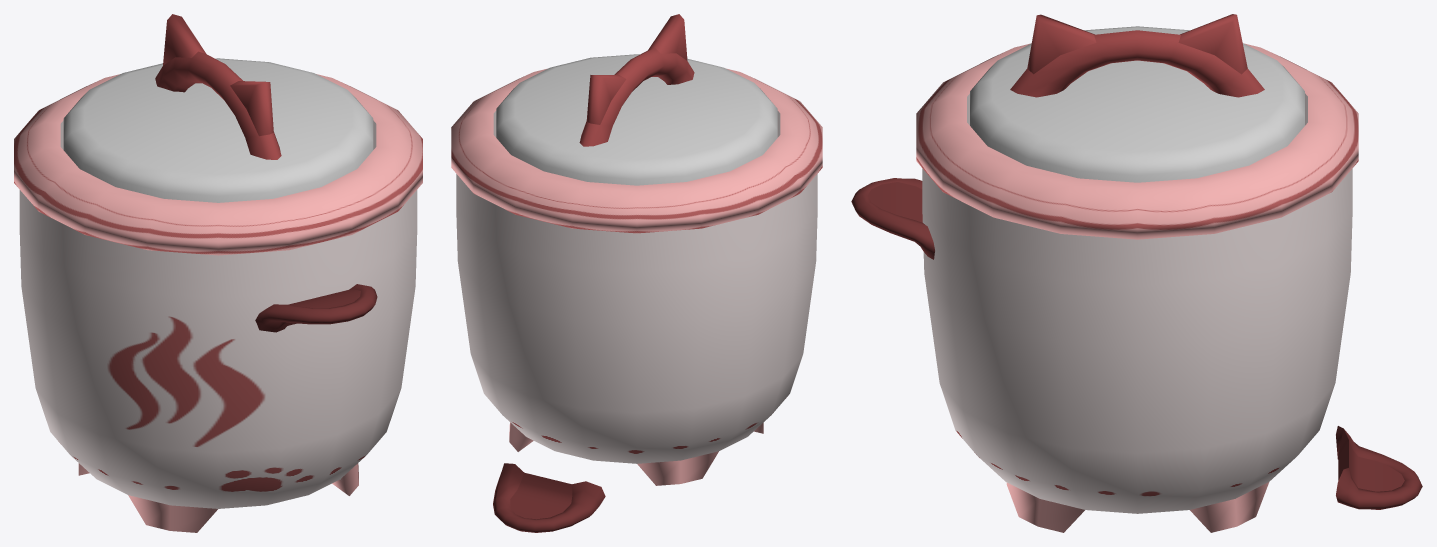
File: steamer.FBX
The picture shows the model from 3 angles, left to right: view 1: azimuth 30°, elevation 25°; view 2: azimuth 150°, elevation 25°; view 3: azimuth 270°, elevation 25°; orthographic projection. The views are drawn at different scales.
Parts seen in each view (by area): view 1: Steamer, Steamer Lid, Steamer Lid Handle, Steamer Handle; view 2: Steamer, Steamer Lid, Steamer Lid Handle, Steamer Handle; view 3: Steamer, Steamer Lid, Steamer Lid Handle, Steamer Handle (×2).
Part boxes in pixels (left/top/right/bottom): Steamer: left=14, top=74, right=422, bottom=532; Steamer Lid: left=63, top=58, right=373, bottom=202; Steamer Lid Handle: left=155, top=14, right=281, bottom=159; Steamer Handle: left=255, top=284, right=377, bottom=332; Steamer: left=451, top=68, right=822, bottom=485; Steamer Lid: left=496, top=54, right=777, bottom=185; Steamer Lid Handle: left=579, top=14, right=694, bottom=146; Steamer Handle: left=493, top=463, right=605, bottom=532; Steamer: left=916, top=43, right=1358, bottom=532; Steamer Lid: left=970, top=26, right=1304, bottom=182; Steamer Lid Handle: left=1010, top=14, right=1264, bottom=97; Steamer Handle (×2): left=851, top=178, right=1422, bottom=509.
Size of the model in its own units: 117 by 138 by 149.
